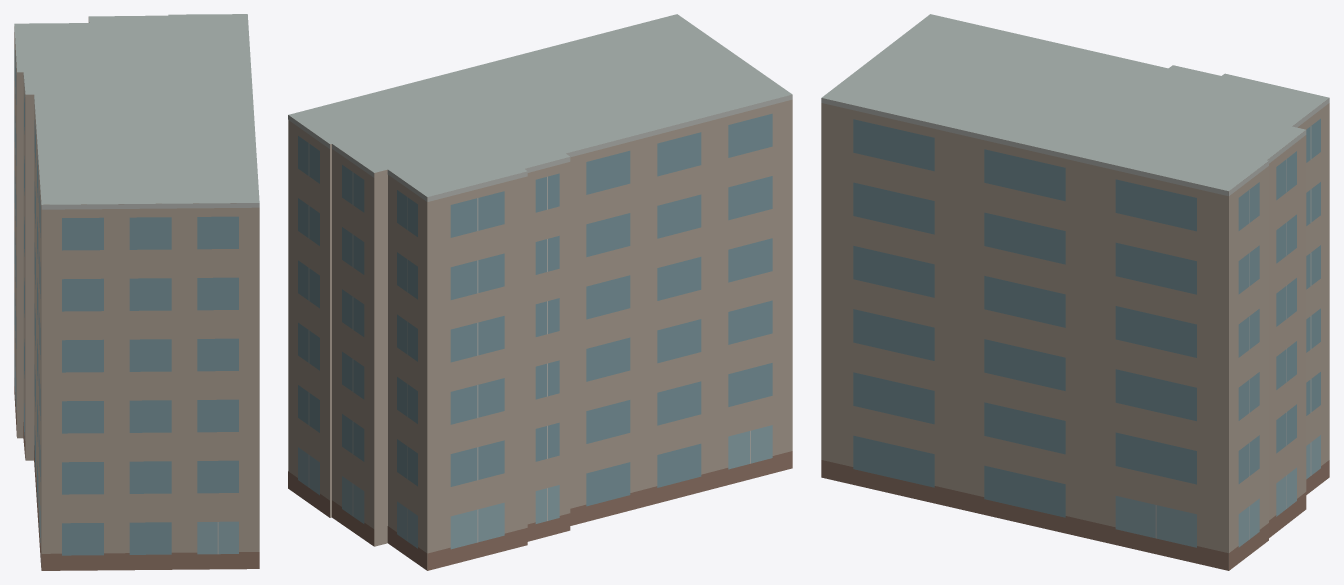
The model's file is survey-upis-32976031.glb.
3 renders of one model, left to right at view 1: azimuth 30°, elevation 25°; view 2: azimuth 150°, elevation 25°; view 3: azimuth 270°, elevation 25°, orthographic. The views are drawn at different scales.
Visible parts, largest first — view 1: survey-upis-32976031.tmp; view 2: survey-upis-32976031.tmp; view 3: survey-upis-32976031.tmp.
Boxes of the visible parts, x1,y1,x2,y2 form: survey-upis-32976031.tmp: (14,14,259,570); survey-upis-32976031.tmp: (288,14,792,570); survey-upis-32976031.tmp: (821,14,1329,570).
Bounding box in the file's own units: 18.33 × 18.3 × 22.21.
